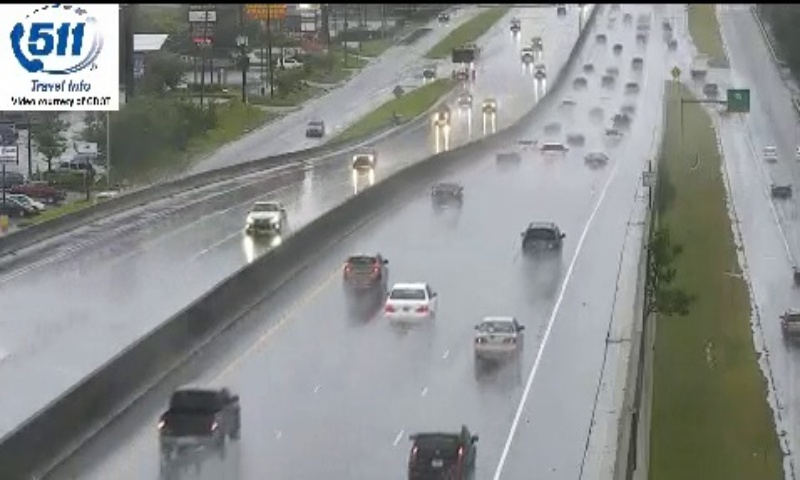car: (158, 386, 241, 451), (408, 426, 478, 480), (474, 316, 523, 360), (384, 283, 436, 323), (343, 253, 388, 291), (523, 222, 561, 259)
